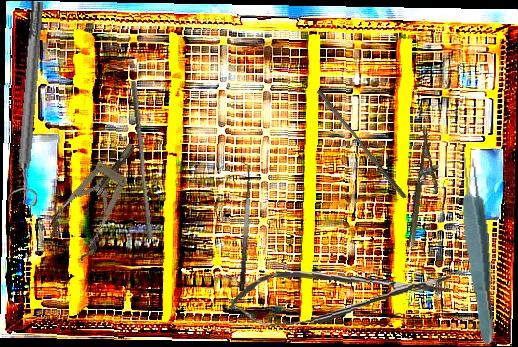Fixation Ring: (4, 0, 56, 207)
Micro Scissor: (228, 263, 455, 328)
Needle Holder: (406, 127, 447, 251)
Pusher: (312, 88, 412, 200), (124, 80, 159, 240)
Spatula Surgical: (227, 162, 257, 291)
Speculum: (42, 131, 156, 265)
Tissue Forceps: (456, 152, 501, 345)
